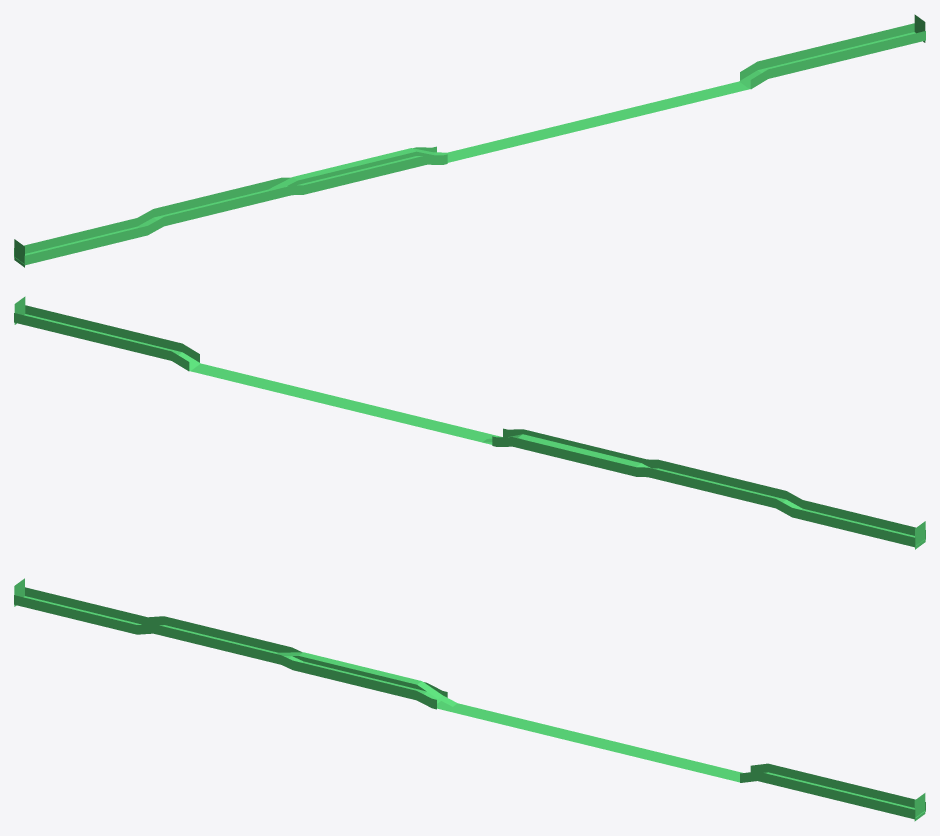
File: FFFFFFCollision.glb
3 views of the same model, one above another, from view 1: azimuth 30°, elevation 25°; view 2: azimuth 150°, elevation 25°; view 3: azimuth 330°, elevation 25° (orthographic).
Visible parts, largest first — view 1: Route_Sector_0, Route_Sector_2, Route_Sector_6, Route_Sector_3, Route_Sector_14, Route_Sector_5, Route_Sector_15, Route_Sector_7, Route_Sector_4, Route_Sector_16, Route_Sector_1, Route_Sector_17 (+6 smaller); view 2: Route_Sector_0, Route_Sector_2, Route_Sector_5, Route_Sector_3, Route_Sector_14, Route_Sector_6, Route_Sector_15, Route_Sector_4, Route_Sector_16, Route_Sector_1, Route_Sector_7, Route_Sector_17 (+6 smaller); view 3: Route_Sector_0, Route_Sector_5, Route_Sector_6, Route_Sector_3, Route_Sector_15, Route_Sector_7, Route_Sector_2, Route_Sector_4, Route_Sector_1, Route_Sector_16, Route_Sector_14, Route_Sector_8 (+6 smaller).
Boxes of the visible parts, x1=… form: Route_Sector_0: x1=14, y1=235, x2=77, y2=267; Route_Sector_2: x1=115, y1=205, x2=178, y2=240; Route_Sector_6: x1=321, y1=157, x2=385, y2=187; Route_Sector_3: x1=167, y1=192, x2=231, y2=222; Route_Sector_14: x1=730, y1=55, x2=793, y2=91; Route_Sector_5: x1=268, y1=170, x2=332, y2=198; Route_Sector_15: x1=783, y1=42, x2=846, y2=72; Route_Sector_7: x1=372, y1=147, x2=433, y2=174; Route_Sector_4: x1=220, y1=181, x2=279, y2=209; Route_Sector_16: x1=836, y1=30, x2=894, y2=59; Route_Sector_1: x1=67, y1=223, x2=125, y2=252; Route_Sector_17: x1=884, y1=14, x2=925, y2=47; Route_Sector_0: x1=862, y1=517, x2=925, y2=549; Route_Sector_2: x1=761, y1=487, x2=824, y2=522; Route_Sector_5: x1=607, y1=452, x2=671, y2=480; Route_Sector_3: x1=708, y1=474, x2=772, y2=504; Route_Sector_14: x1=146, y1=337, x2=209, y2=373; Route_Sector_6: x1=554, y1=439, x2=618, y2=469; Route_Sector_15: x1=93, y1=324, x2=156, y2=354; Route_Sector_4: x1=660, y1=463, x2=719, y2=491; Route_Sector_16: x1=45, y1=312, x2=103, y2=341; Route_Sector_1: x1=814, y1=505, x2=872, y2=534; Route_Sector_7: x1=506, y1=429, x2=565, y2=456; Route_Sector_17: x1=14, y1=296, x2=55, y2=329; Route_Sector_0: x1=14, y1=578, x2=77, y2=617; Route_Sector_5: x1=268, y1=644, x2=332, y2=676; Route_Sector_6: x1=321, y1=659, x2=385, y2=689; Route_Sector_3: x1=167, y1=620, x2=231, y2=649; Route_Sector_15: x1=783, y1=770, x2=846, y2=799; Route_Sector_7: x1=374, y1=671, x2=435, y2=703; Route_Sector_2: x1=115, y1=612, x2=178, y2=636; Route_Sector_4: x1=220, y1=632, x2=281, y2=661; Route_Sector_1: x1=67, y1=600, x2=125, y2=629; Route_Sector_16: x1=836, y1=783, x2=894, y2=811; Route_Sector_14: x1=730, y1=763, x2=793, y2=786; Route_Sector_8: x1=422, y1=686, x2=485, y2=717.
Bounding box in the file's own units: 450 × 12.52 × 9.25.
